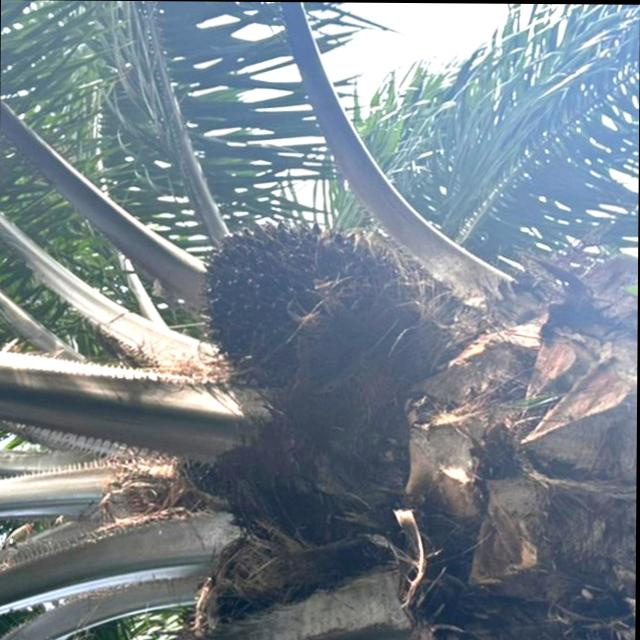almost: (194, 225, 397, 392)
